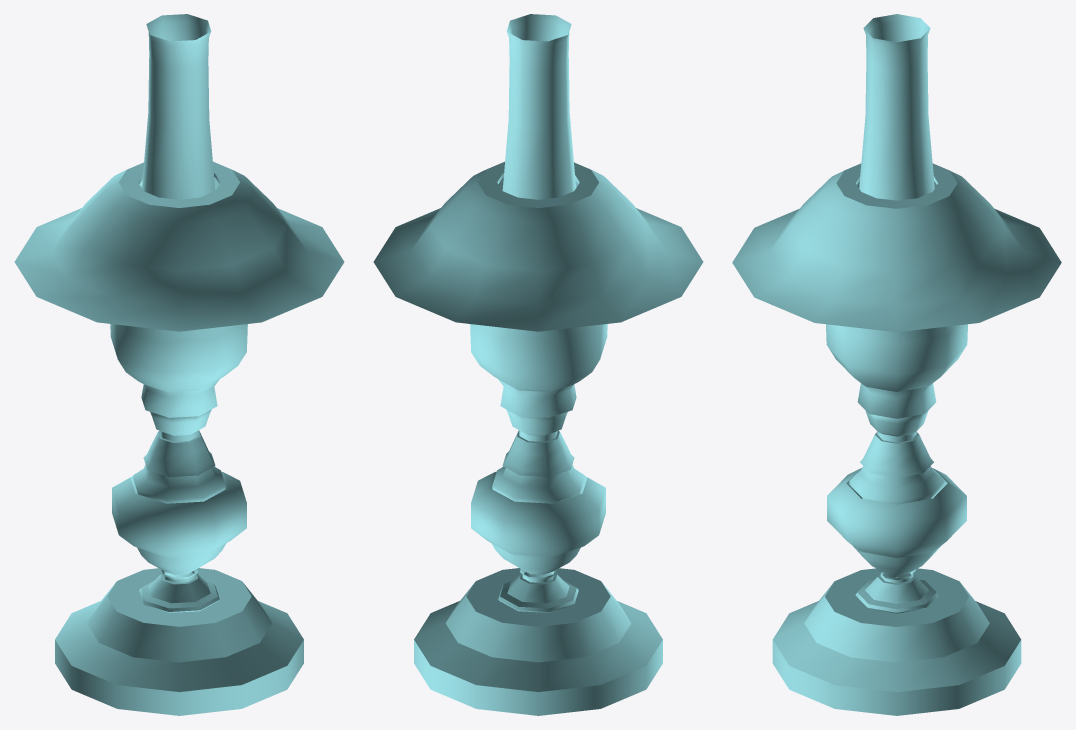
The model's file is Candle_LO.FBX.
3 renders of one model, left to right at view 1: azimuth 30°, elevation 25°; view 2: azimuth 150°, elevation 25°; view 3: azimuth 270°, elevation 25°, orthographic.
Parts seen in each view (by area): view 1: Lamp; view 2: Lamp; view 3: Lamp.
Part boxes in pixels (box(x1,y1,x2,y2)): Lamp: box(14, 14, 344, 715); Lamp: box(373, 14, 703, 715); Lamp: box(732, 14, 1061, 715).
Bounding box in the file's own units: 15.13 × 32.15 × 15.13.
